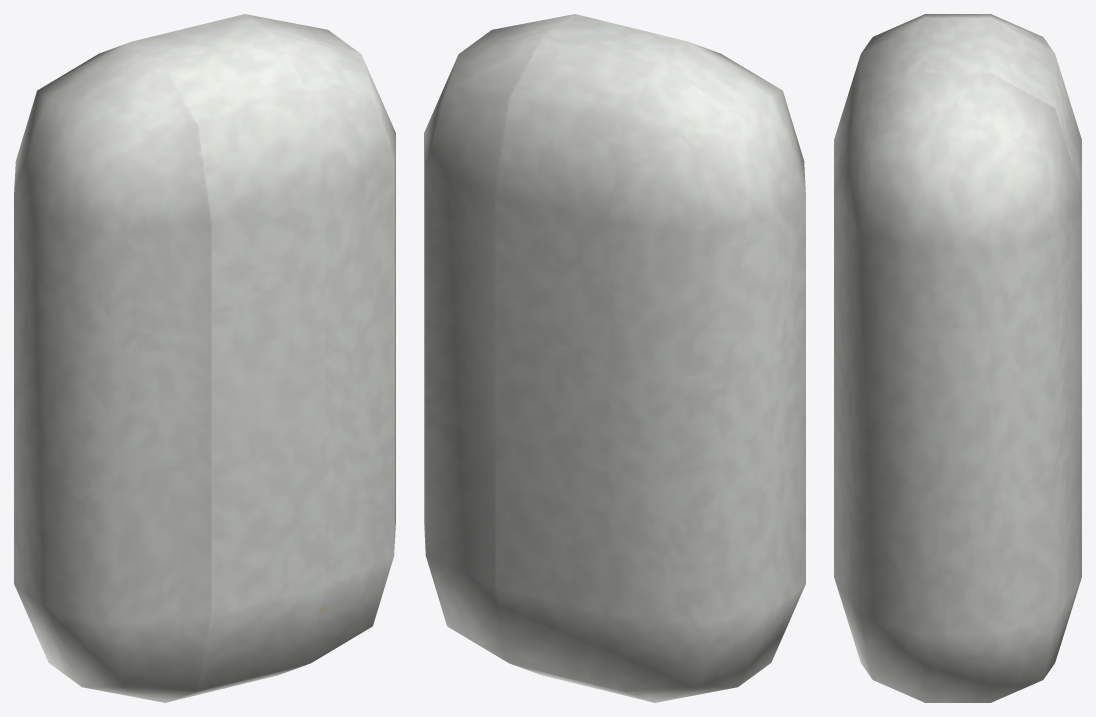
Rendered from rice.fbx.
3 views of the same model, side by side, from view 1: azimuth 30°, elevation 25°; view 2: azimuth 150°, elevation 25°; view 3: azimuth 270°, elevation 25° (orthographic).
Parts seen in each view (by area): view 1: Nigiri_tamago.002; view 2: Nigiri_tamago.002; view 3: Nigiri_tamago.002.
Boxes of the visible parts, x1,y1,x2,y2 form: Nigiri_tamago.002: (14,14,395,702); Nigiri_tamago.002: (424,14,805,702); Nigiri_tamago.002: (834,14,1081,702).
Size of the model in its own units: 3.15 by 5.51 by 1.98.
